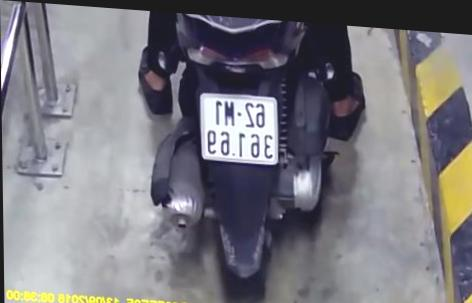License_Plate: (191, 84, 292, 174)
